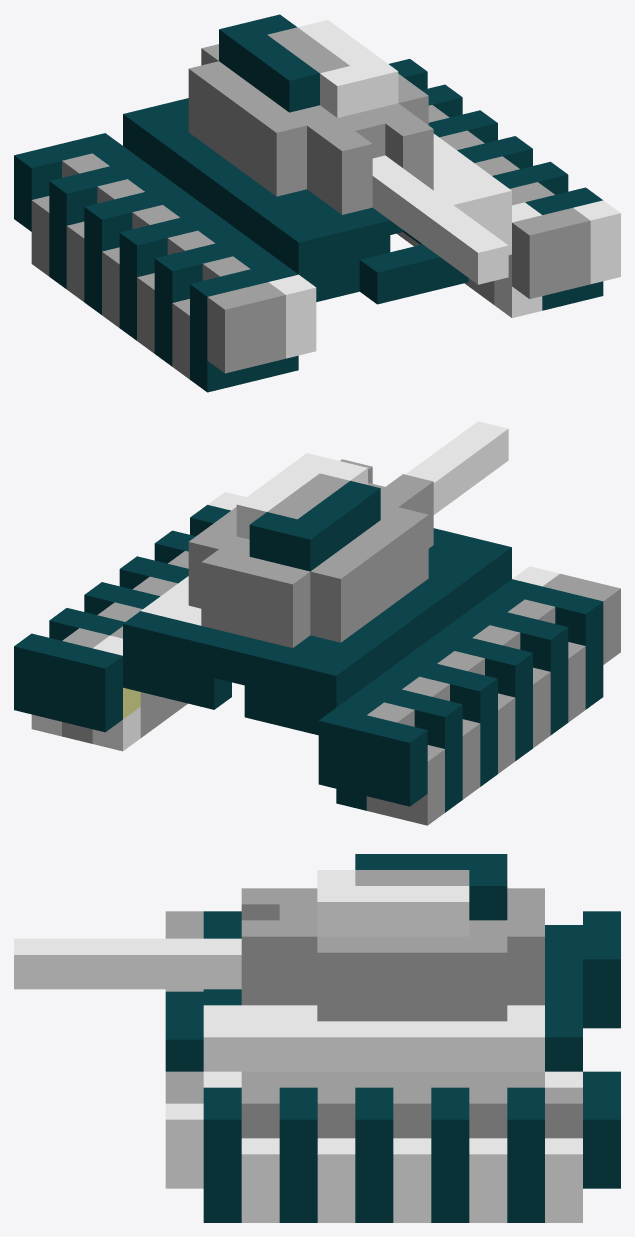
File: GreyTankT2.fbx
3 renders of one model, top to bottom at view 1: azimuth 30°, elevation 25°; view 2: azimuth 150°, elevation 25°; view 3: azimuth 270°, elevation 25°, orthographic. The views are drawn at different scales.
Visible parts, largest first — view 1: BC1.001; view 2: BC1.001; view 3: BC1.001.
Boxes of the visible parts, box(x1,y1,x2,y2) form: BC1.001: box(14, 14, 620, 392); BC1.001: box(14, 421, 620, 825); BC1.001: box(14, 854, 620, 1222).
Bounding box in the file's own units: 1300 × 700 × 1600.
